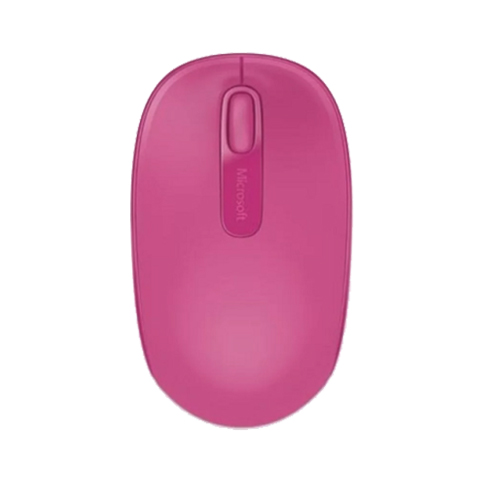Mouse: (123, 46, 359, 433)
